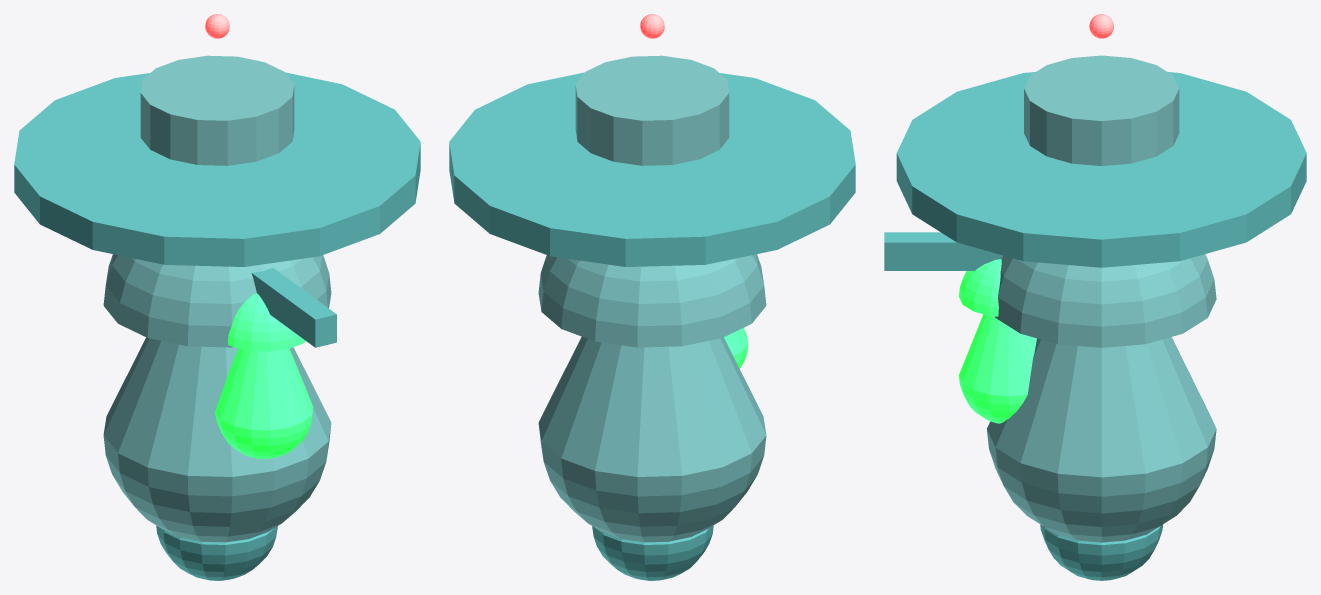
The model's file is laser_weapon.glb.
The picture shows the model from 3 angles, left to right: view 1: azimuth 30°, elevation 25°; view 2: azimuth 150°, elevation 25°; view 3: azimuth 270°, elevation 25°; orthographic projection.
Parts seen in each view (by area): view 1: barrel, main_body, scope, energy_core, grip, side_rail; view 2: main_body, barrel, scope, grip, energy_core; view 3: barrel, main_body, scope, energy_core, grip, side_rail.
Boxes of the visible parts, x1=… form: barrel: x1=14, y1=72, x2=420, y2=266; main_body: x1=103, y1=254, x2=331, y2=542; scope: x1=140, y1=55, x2=294, y2=165; energy_core: x1=215, y1=293, x2=313, y2=458; grip: x1=156, y1=525, x2=277, y2=580; side_rail: x1=251, y1=267, x2=336, y2=347; main_body: x1=538, y1=254, x2=766, y2=542; barrel: x1=449, y1=72, x2=855, y2=266; scope: x1=575, y1=55, x2=729, y2=165; grip: x1=592, y1=525, x2=713, y2=580; energy_core: x1=724, y1=328, x2=748, y2=368; barrel: x1=896, y1=72, x2=1306, y2=267; main_body: x1=987, y1=254, x2=1216, y2=542; scope: x1=1024, y1=55, x2=1179, y2=165; energy_core: x1=959, y1=259, x2=1036, y2=423; grip: x1=1040, y1=524, x2=1163, y2=580; side_rail: x1=884, y1=232, x2=1002, y2=270.
Bounding box in the file's own units: 0.66 × 0.995 × 0.68.
